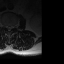CCS_normal: (8, 24, 10, 32)
LFS_normal: (12, 23, 14, 30)
LLS_normal: (10, 23, 12, 31)
RFS_stenosis: (4, 23, 6, 29)
RLS_normal: (6, 24, 8, 31)
